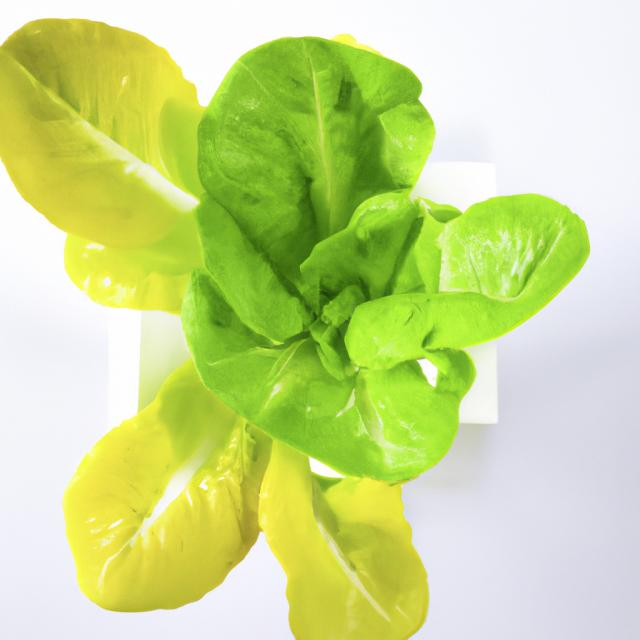-N: (0, 0, 596, 640)
